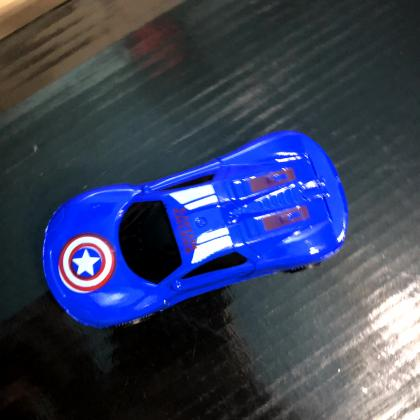Car: (41, 131, 350, 331)
